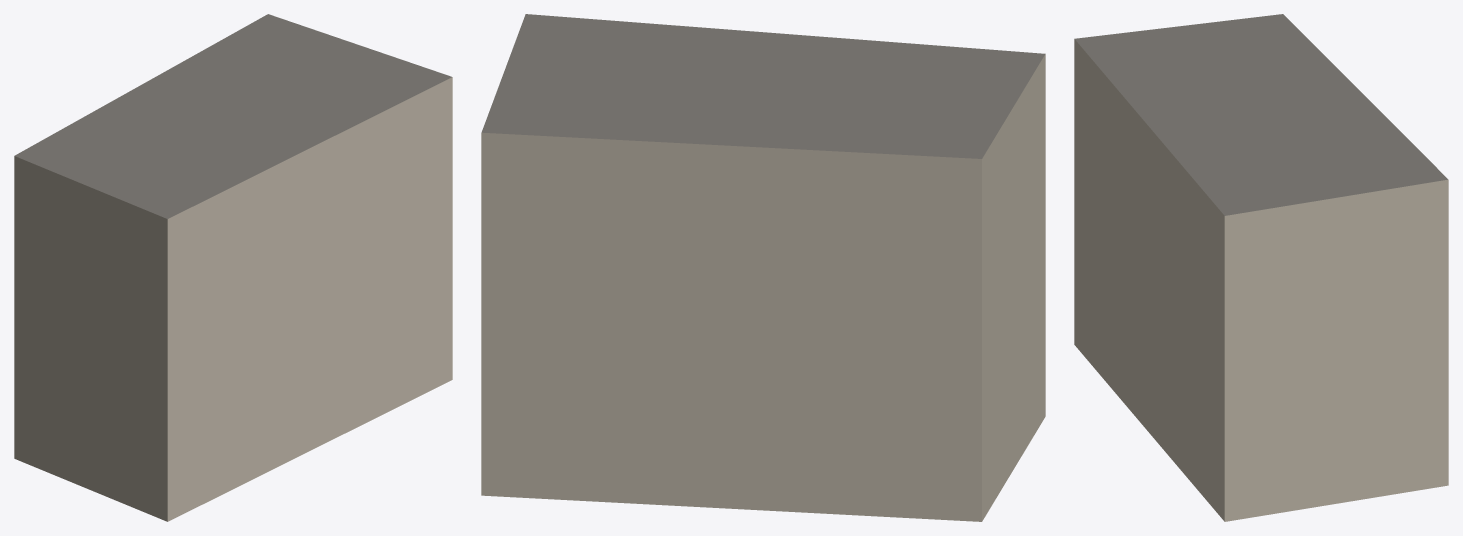
The picture shows the model from 3 angles, left to right: view 1: azimuth 30°, elevation 25°; view 2: azimuth 150°, elevation 25°; view 3: azimuth 270°, elevation 25°; orthographic projection. The views are drawn at different scales.
Parts seen in each view (by area): view 1: HP-w446934352; view 2: HP-w446934352; view 3: HP-w446934352.
Part boxes in pixels (x1,y1,x2,y2): HP-w446934352: (14,14,452,521); HP-w446934352: (481,14,1045,521); HP-w446934352: (1074,14,1448,521).
Bounding box in the file's own units: 25.48 × 18 × 19.95.
